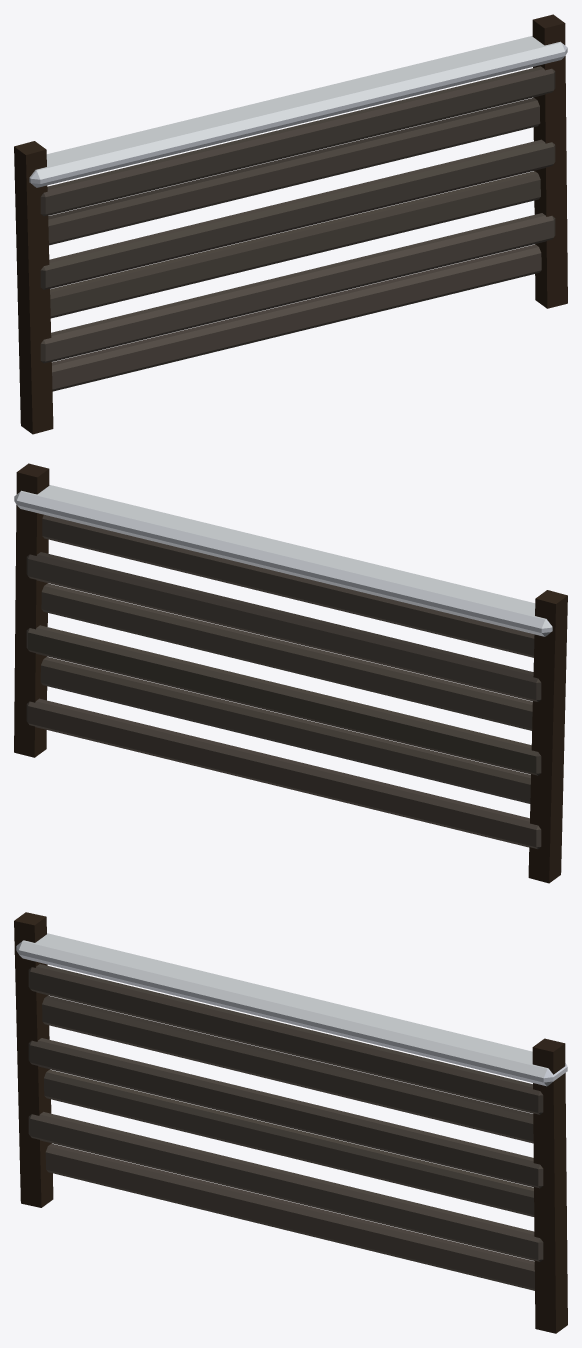
File: village_fence_wattle.glb
3 views of the same model, one above another, from view 1: azimuth 30°, elevation 25°; view 2: azimuth 150°, elevation 25°; view 3: azimuth 330°, elevation 25° (orthographic).
Parts seen in each view (by area): view 1: village_fence_wattle; view 2: village_fence_wattle; view 3: village_fence_wattle.
Boxes of the visible parts, box(x1,y1,x2,y2) form: village_fence_wattle: box(14, 14, 567, 434); village_fence_wattle: box(14, 463, 567, 883); village_fence_wattle: box(14, 912, 567, 1333).
Size of the model in its own units: 2.62 by 1.3 by 0.18.
